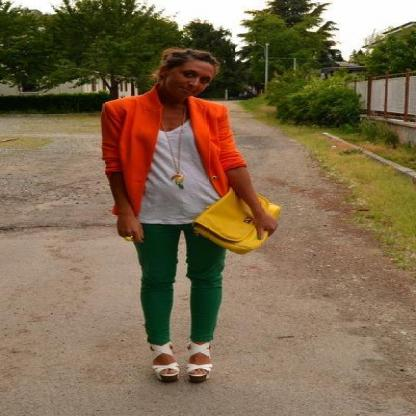bag: (194, 191, 281, 254)
jacket: (89, 92, 244, 204)
pants: (137, 222, 225, 345)
shirt: (140, 120, 218, 224)
shoe: (153, 344, 211, 375)
